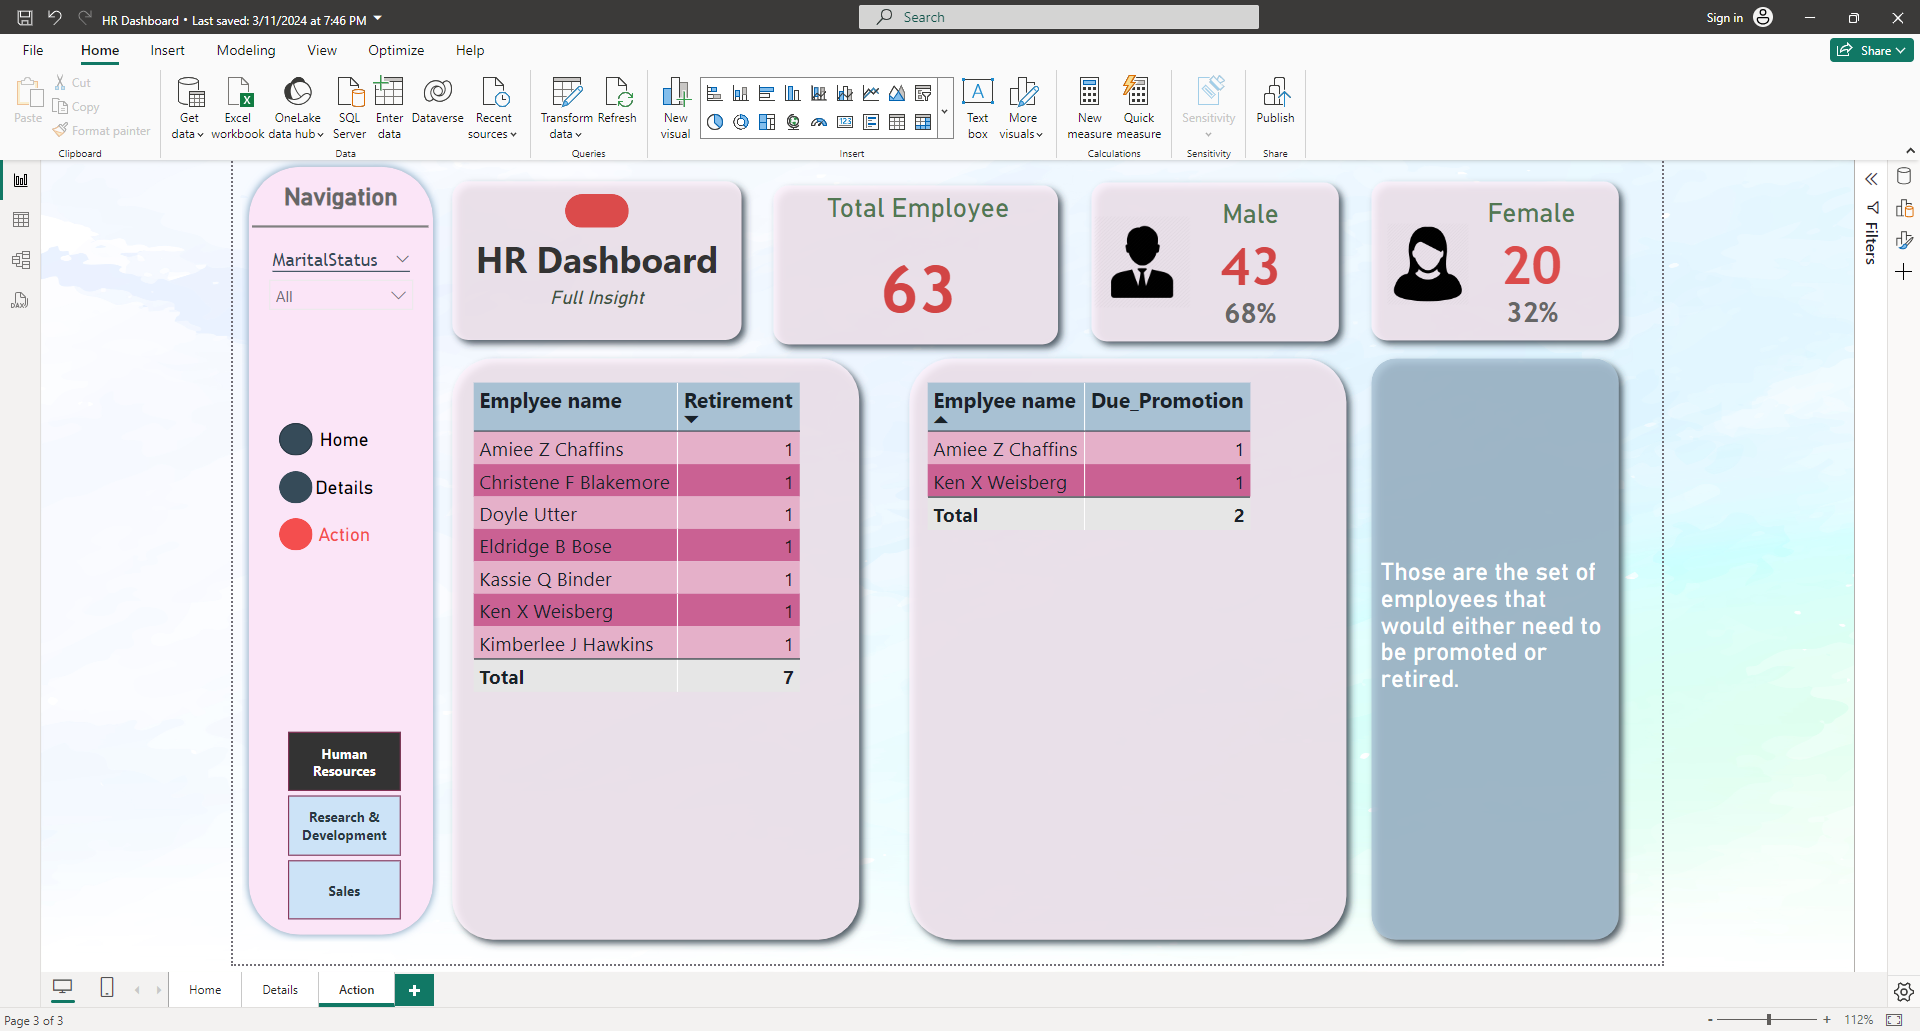

Layout of this report page (visuals, bound fields, positions):
{"tool":"powerbi","page":{"name":"Action","canvas":[1280,720],"ordinal":2},"visuals":[{"type":"shape","box":[8.3,0,177.1,699.9],"z":0,"group":"g8"},{"type":"group","id":"g1","title":"Group 2","box":[185.4,8.3,280.2,164.6],"z":0},{"type":"shape","box":[185.4,8.3,281.1,164.1],"z":0,"group":"g1"},{"type":"shape","box":[1008.2,8.3,243.7,164.6],"z":0,"group":"g4"},{"type":"shape","box":[757.2,9.4,243.7,164.6],"z":0,"group":"g3"},{"type":"shape","box":[472.8,11.5,277,164.6],"z":0,"group":"g2"},{"type":"shape","box":[185.4,166.6,386.4,542.6],"z":0,"group":"g5"},{"type":"shape","box":[594.7,166.6,413.5,542.6],"z":0,"group":"g6"},{"type":"shape","box":[1008.2,166.6,243.7,542.6],"z":0,"group":"g7"},{"type":"group","id":"g2","title":"Group 3","box":[472.8,11.5,277,164.6],"z":1000},{"type":"card","title":"Total Employee","fields":{"Values":["HR Analytics Data.Total Emp"]},"box":[485.3,28.2,256.2,138.5],"z":1000,"group":"g2"},{"type":"card","title":"Female","fields":{"Values":["HR Analytics Data.Total female_Emp"]},"box":[1092.6,33.3,140.6,89.6],"z":1000,"group":"g4"},{"type":"card","title":"Male","fields":{"Values":["HR Analytics Data.Total Male_Emp"]},"box":[840.5,34.4,140.6,89.6],"z":1000,"group":"g3"},{"type":"textbox","box":[197.4,60.8,257.9,55.5],"z":1000,"group":"g1"},{"type":"tableEx","fields":{"Values":["HR employee data.Emplyee name","HR Analytics Data.Retirement"]},"box":[209.4,194.7,342.7,492.6],"z":1000,"group":"g5"},{"type":"tableEx","fields":{"Values":["HR employee data.Emplyee name","HR Analytics Data.Due_Promotion"]},"box":[616.6,194.7,374.9,492.6],"z":1000,"group":"g6"},{"type":"textbox","box":[1022.8,350.9,214.5,135.4],"z":1000,"group":"g7"},{"type":"group","id":"g3","title":"Group 4","box":[757.2,9.4,243.7,164.6],"z":2000},{"type":"image","box":[1028,50,84.4,86.4],"z":2000,"group":"g4"},{"type":"textbox","box":[197.4,108.2,257.9,28.7],"z":2000,"group":"g1"},{"type":"card","title":"Total Employee","fields":{"Values":["HR Analytics Data.%Male"]},"box":[848.9,116.7,123.9,41.7],"z":2000,"group":"g3"},{"type":"group","id":"g4","title":"Group 5","box":[1008.2,8.3,243.7,164.6],"z":3000},{"type":"shape","box":[297.7,30.3,57.3,30.4],"z":3000,"group":"g1"},{"type":"image","box":[765.5,44.8,96.9,92.7],"z":3000,"group":"g3"},{"type":"card","title":"Total Employee","fields":{"Values":["HR Analytics Data.%Female"]},"box":[1100.9,115.6,123.9,41.7],"z":3000,"group":"g4"},{"type":"group","id":"g5","title":"Group 1","box":[185.4,166.6,386.4,542.6],"z":4000},{"type":"group","id":"g6","title":"Group 2","box":[594.7,166.6,413.5,542.6],"z":5000},{"type":"slicer","fields":{"Values":["HR Analytics Data.Department"]},"box":[23.9,505.1,151,182.3],"z":5000,"group":"g8"},{"type":"shape","box":[17.7,50,158.3,18.7],"z":6000,"group":"g8"},{"type":"group","id":"g7","title":"Group 3","box":[1008.2,166.6,243.7,542.6],"z":6000},{"type":"group","id":"g8","title":"Group 6","box":[8.3,0,177.1,699.9],"z":7000},{"type":"actionButton","box":[34.3,230.2,131.2,39.6],"z":7000,"group":"g8"},{"type":"actionButton","box":[34.3,272.9,131.2,39.6],"z":8000,"group":"g8"},{"type":"actionButton","box":[34.3,315.6,131.2,39.6],"z":9000,"group":"g8"},{"type":"shape","box":[41.6,235.4,30.2,29.2],"z":10000,"group":"g8"},{"type":"shape","box":[41.6,278.1,30.2,29.2],"z":11000,"group":"g8"},{"type":"shape","box":[41.6,320.8,30.2,29.2],"z":12000,"group":"g8"},{"type":"slicer","fields":{"Values":["HR Analytics Data.MaritalStatus"]},"box":[22.7,75.3,148.5,60.9],"z":12001}]}

Visuals, with their boxes on the page's 1280x720 design canvas (x1, y1, x2, y2). These are canvas units, not pixel positions in the 1920x1031 screenshot, which may show the page scaled, cropped or inside an application window:
shape: <bbox>8, 0, 185, 700</bbox>
"Group 2" group: <bbox>185, 8, 466, 173</bbox>
shape: <bbox>185, 8, 466, 172</bbox>
shape: <bbox>1008, 8, 1252, 173</bbox>
shape: <bbox>757, 9, 1001, 174</bbox>
shape: <bbox>473, 12, 750, 176</bbox>
shape: <bbox>185, 167, 572, 709</bbox>
shape: <bbox>595, 167, 1008, 709</bbox>
shape: <bbox>1008, 167, 1252, 709</bbox>
"Group 3" group: <bbox>473, 12, 750, 176</bbox>
"Total Employee" card: <bbox>485, 28, 742, 167</bbox>
"Female" card: <bbox>1093, 33, 1233, 123</bbox>
"Male" card: <bbox>840, 34, 981, 124</bbox>
textbox: <bbox>197, 61, 455, 116</bbox>
tableEx - HR employee data.Emplyee name x HR Analytics Data.Retirement: <bbox>209, 195, 552, 687</bbox>
tableEx - HR employee data.Emplyee name x HR Analytics Data.Due_Promotion: <bbox>617, 195, 992, 687</bbox>
textbox: <bbox>1023, 351, 1237, 486</bbox>
"Group 4" group: <bbox>757, 9, 1001, 174</bbox>
image: <bbox>1028, 50, 1112, 136</bbox>
textbox: <bbox>197, 108, 455, 137</bbox>
"Total Employee" card: <bbox>849, 117, 973, 158</bbox>
"Group 5" group: <bbox>1008, 8, 1252, 173</bbox>
shape: <bbox>298, 30, 355, 61</bbox>
image: <bbox>766, 45, 862, 138</bbox>
"Total Employee" card: <bbox>1101, 116, 1225, 157</bbox>
"Group 1" group: <bbox>185, 167, 572, 709</bbox>
"Group 2" group: <bbox>595, 167, 1008, 709</bbox>
slicer - HR Analytics Data.Department: <bbox>24, 505, 175, 687</bbox>
shape: <bbox>18, 50, 176, 69</bbox>
"Group 3" group: <bbox>1008, 167, 1252, 709</bbox>
"Group 6" group: <bbox>8, 0, 185, 700</bbox>
actionButton: <bbox>34, 230, 166, 270</bbox>
actionButton: <bbox>34, 273, 166, 312</bbox>
actionButton: <bbox>34, 316, 166, 355</bbox>
shape: <bbox>42, 235, 72, 265</bbox>
shape: <bbox>42, 278, 72, 307</bbox>
shape: <bbox>42, 321, 72, 350</bbox>
slicer - HR Analytics Data.MaritalStatus: <bbox>23, 75, 171, 136</bbox>
